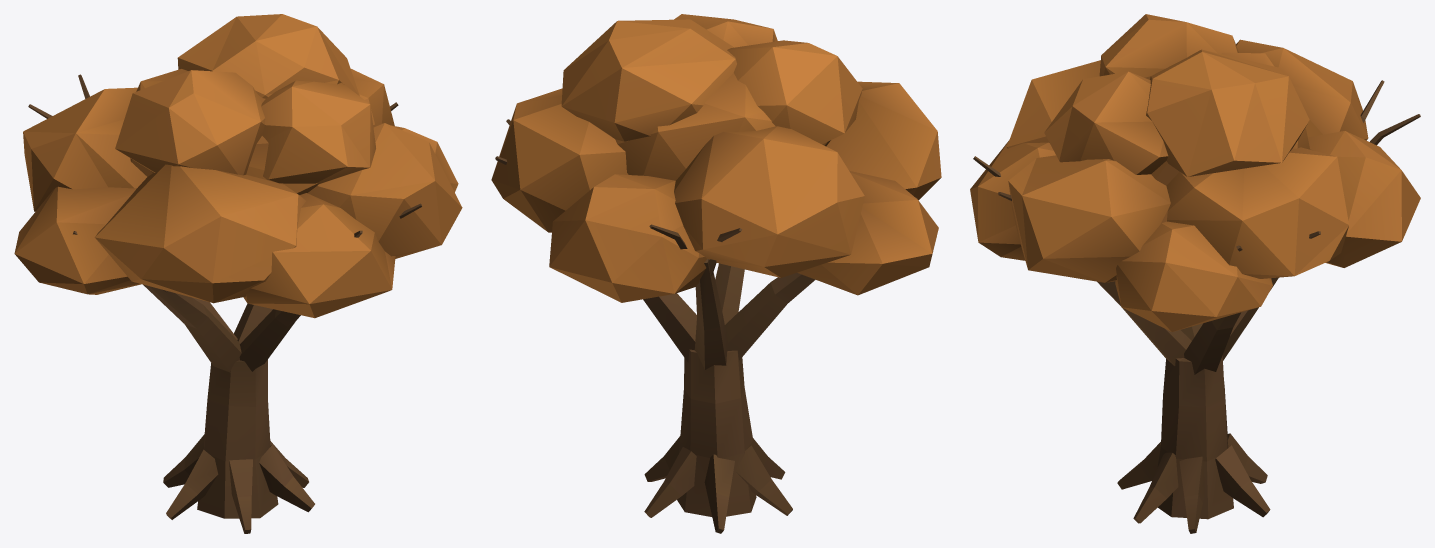
File: tree_big_oak_low.glb
3 views of the same model, side by side, from view 1: azimuth 30°, elevation 25°; view 2: azimuth 150°, elevation 25°; view 3: azimuth 270°, elevation 25° (orthographic). The views are drawn at different scales.
Bounding box in the file's own units: 11.77 × 12.28 × 10.87.
